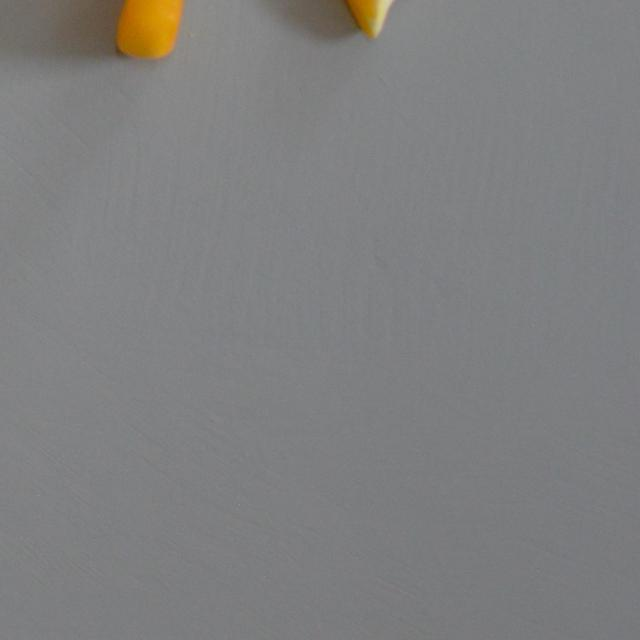estandar: (112, 0, 186, 60)
no_canjicado: (328, 0, 441, 40)
